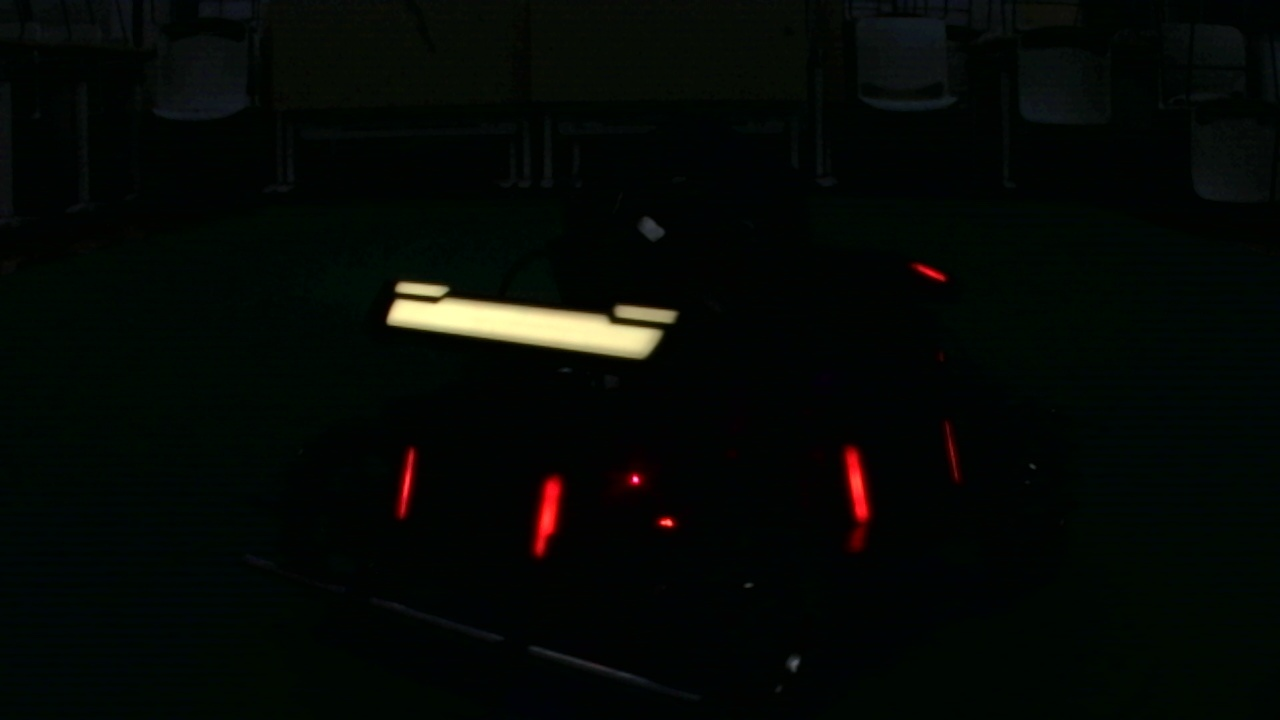lamp: (534, 463, 562, 559), (395, 442, 420, 527), (841, 444, 866, 518)
notpair1: (532, 446, 868, 562)
pair1: (401, 443, 563, 561)
